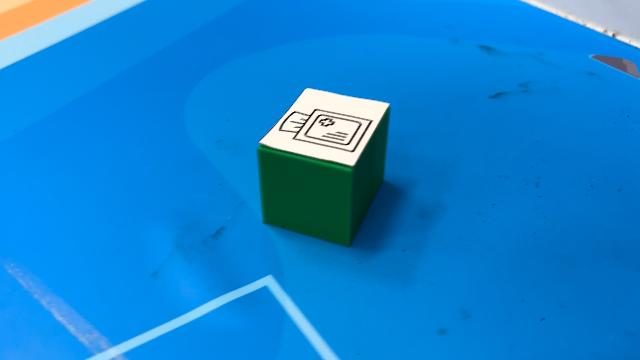napkin: (260, 89, 390, 247)
